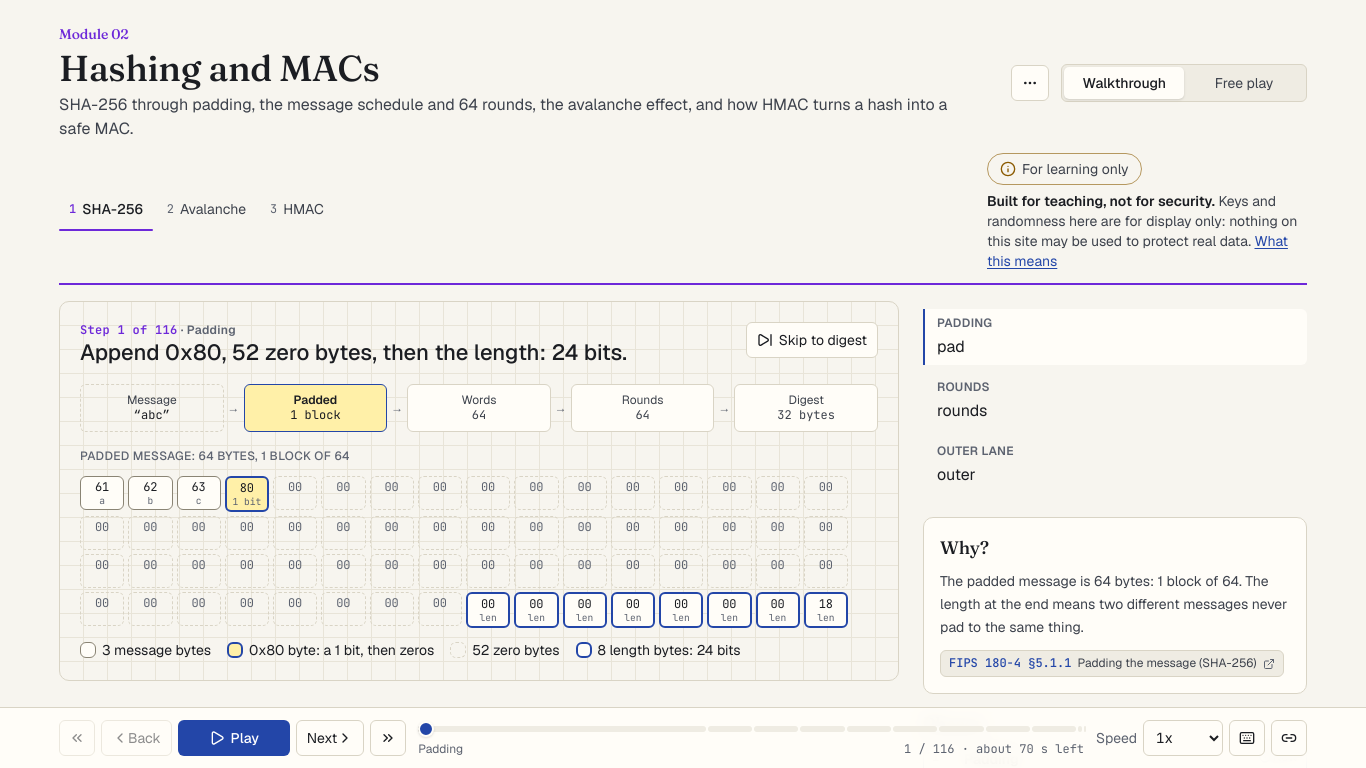
Test: HashingModule › shifts a–h one place right each round, and the round slider moves through 64
The width and height of the screenshot is (1366, 768).
Click the button "Rounds 64": [643, 408] box [571,384,714,432]
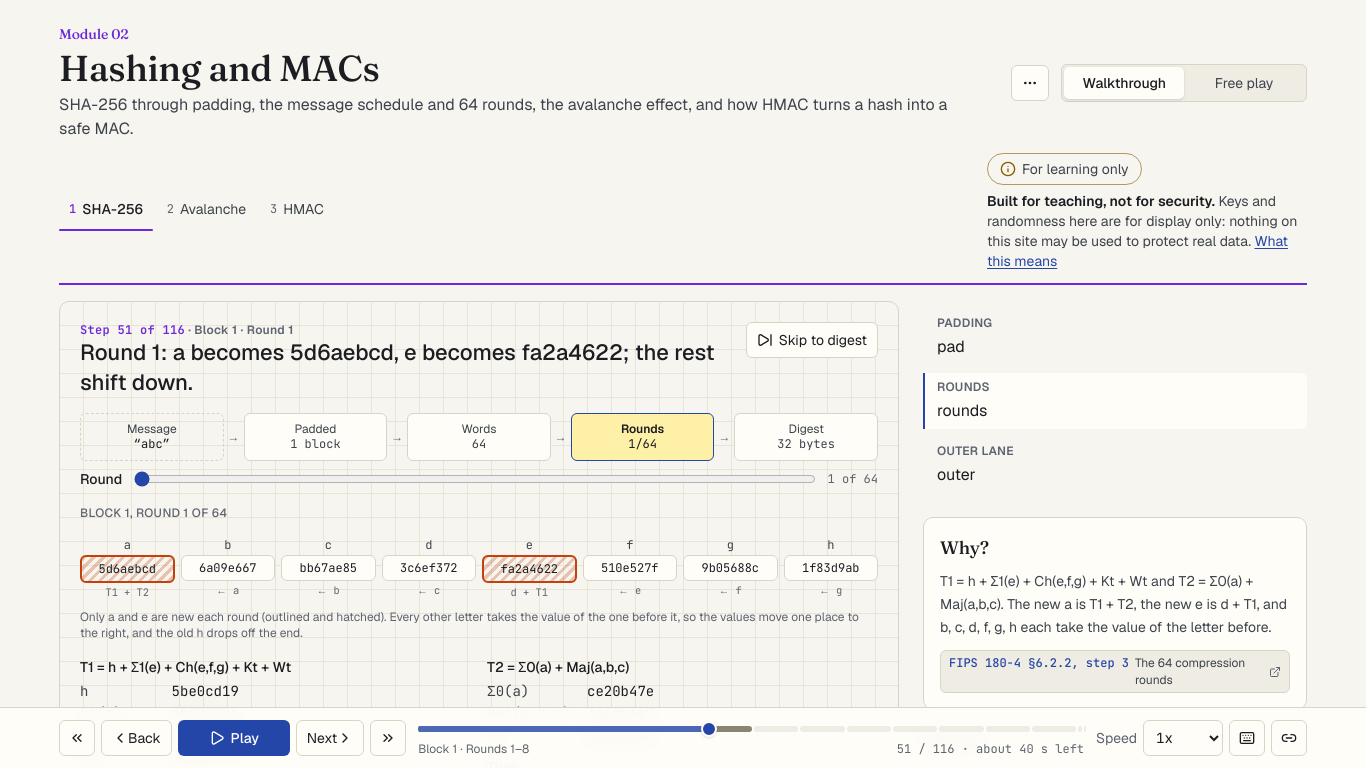
Result: the message shows "Round 1:" at [80,338,715,396]
Result: the element showing "5d6aebcd" is shown at [80,555,174,583]
Result: the element showing "fa2a4622" is shown at [482,555,576,583]
Press ArrowRight
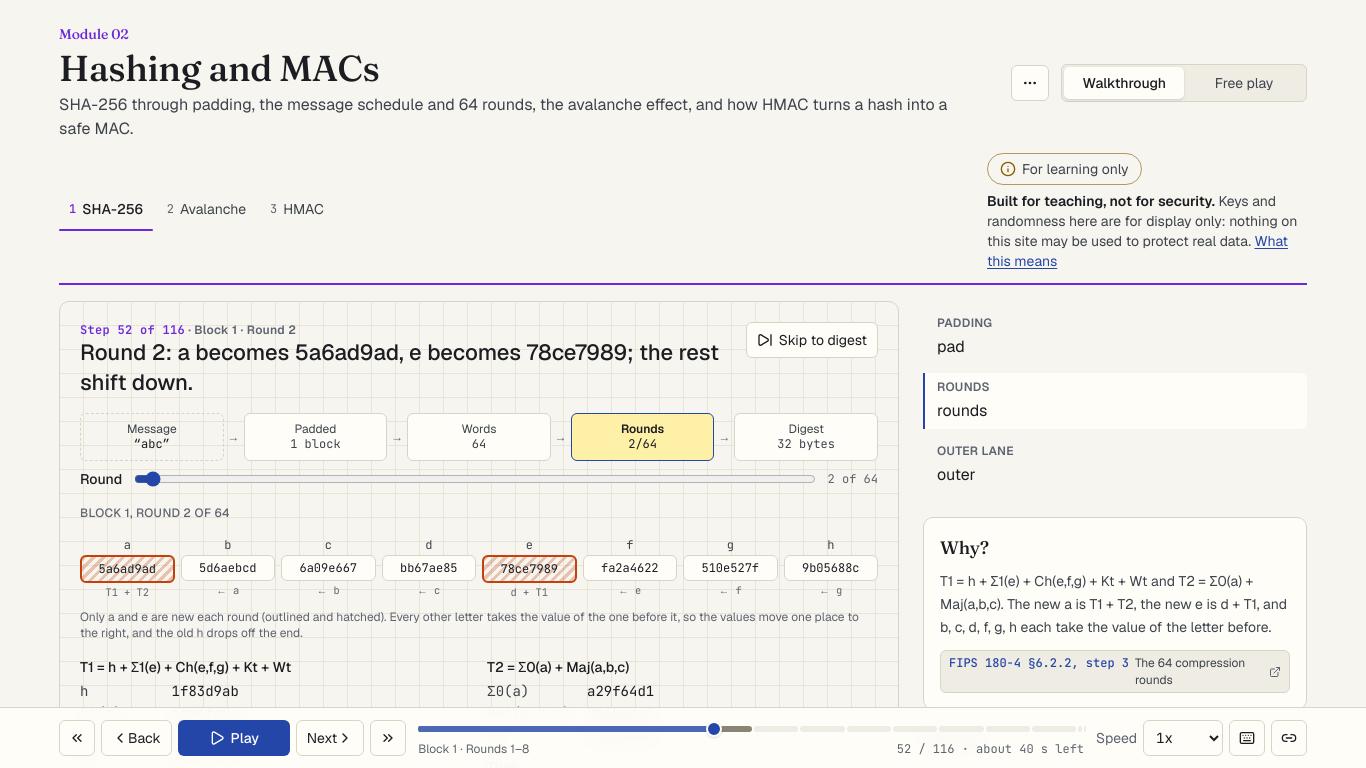
Result: the text "5d6aebcd" is shown at [180,555,275,581]
Result: the slider labelled "Round" holds "2"
Set the slider labelled "Round" to "64": [808, 479] box [134,471,816,487]
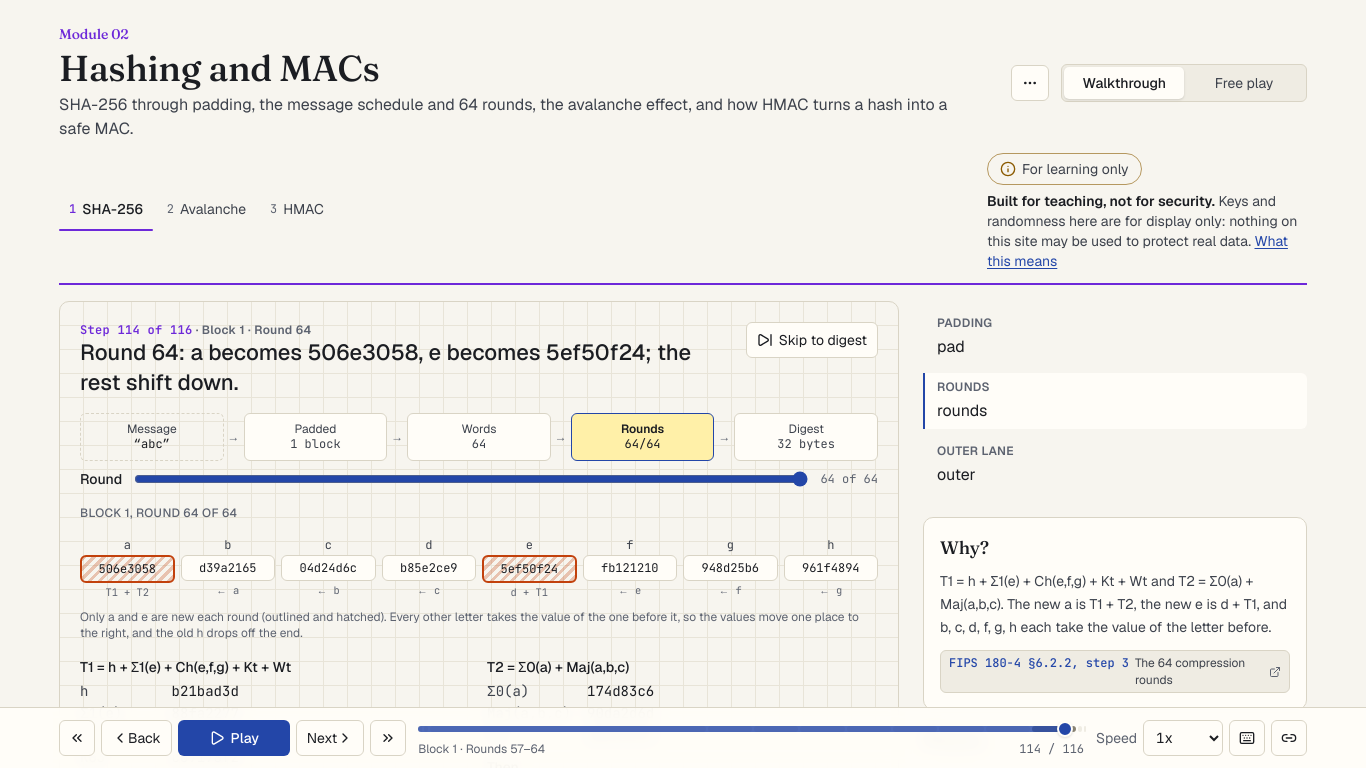
Result: the message shows "Round 64:" at [80,338,691,396]
Result: the button "Rounds 64/64" is shown at [571,413,714,461]
